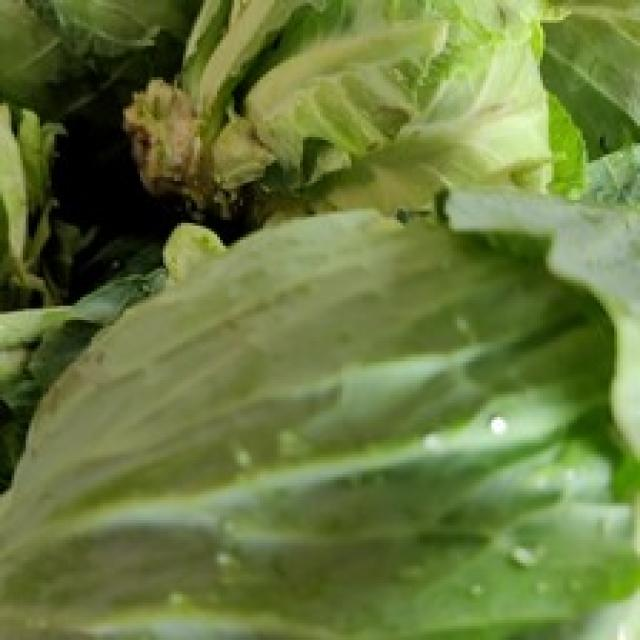Cabbage: (43, 188, 640, 640), (142, 0, 611, 214)
